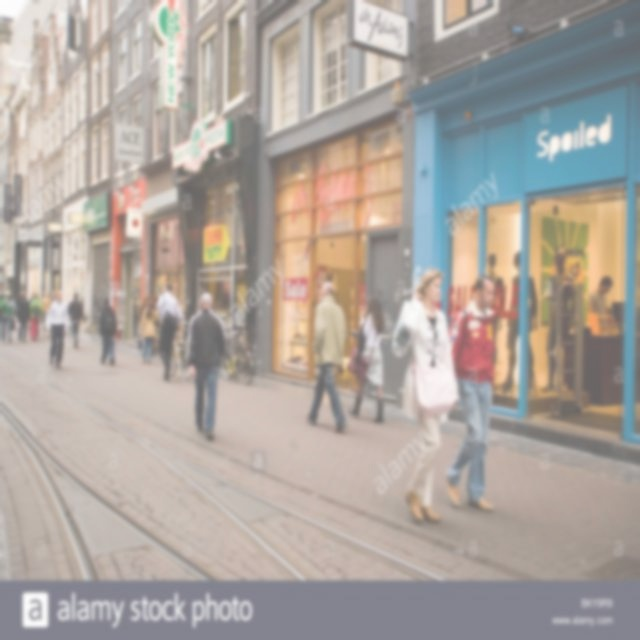pessoa: (390, 266, 460, 526), (441, 271, 503, 512), (484, 246, 574, 398), (304, 281, 349, 434), (186, 289, 228, 442), (347, 292, 388, 426), (156, 281, 184, 381), (44, 290, 68, 370), (99, 296, 118, 366), (138, 299, 158, 364), (65, 291, 86, 349), (587, 275, 614, 320), (0, 290, 16, 343), (137, 294, 151, 354), (14, 291, 30, 343), (28, 290, 44, 342), (41, 290, 52, 338), (28, 291, 40, 335), (153, 294, 160, 336), (14, 292, 22, 308), (50, 289, 56, 302), (0, 292, 5, 300), (40, 291, 45, 299)
